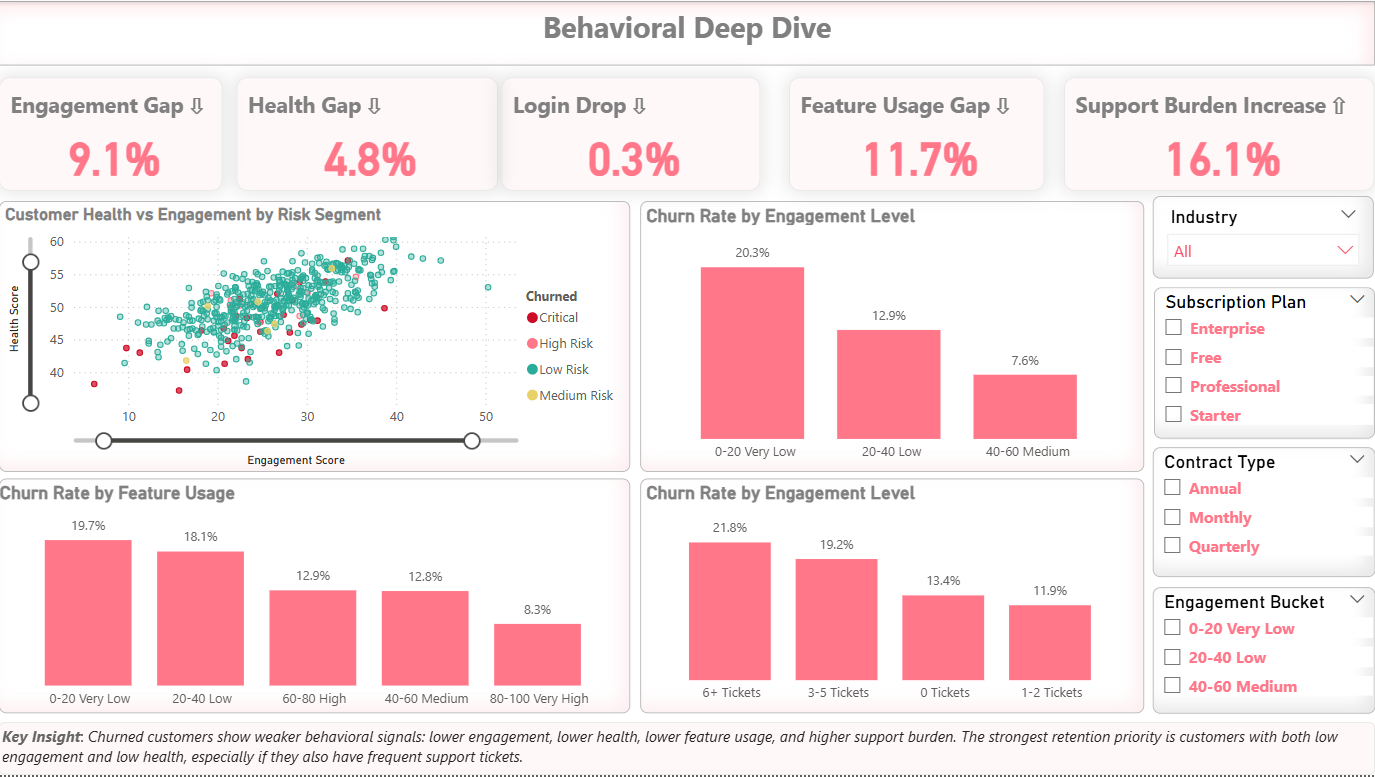

The dashboard page shown, as its layout file describes it:
{"tool":"powerbi","page":{"name":"Behavioral Insights","canvas":[1280,720],"ordinal":2},"visuals":[{"type":"textbox","box":[0,0,1280.2,59.7],"z":0},{"type":"clusteredColumnChart","title":"Churn Rate by Engagement Level","fields":{"Category":["saas_churn_full_for_powerbi.Engagement Bucket"],"Y":["saas_churn_full_for_powerbi.Churn Rate"]},"box":[596.5,186,468.6,252.3],"z":1000},{"type":"card","title":"Engagement Gap ⇩ ","fields":{"Values":["saas_churn_full_for_powerbi.Engagement Gap %"]},"box":[0,71.1,208.4,106],"z":2000},{"type":"card","title":"Health Gap ⇩","fields":{"Values":["saas_churn_full_for_powerbi.Health Gap %"]},"box":[220.4,71.1,243.3,106],"z":3000},{"type":"card","title":"Login Drop ⇩ ","fields":{"Values":["saas_churn_full_for_powerbi.Login Drop %"]},"box":[467.3,71.1,240.9,106],"z":4000},{"type":"card","title":"Feature Usage Gap ⇩","fields":{"Values":["saas_churn_full_for_powerbi.Feature Usage Gap %"]},"box":[734.7,71.1,237.3,106],"z":5000},{"type":"scatterChart","title":"Customer Health vs Engagement by Risk Segment","fields":{"X":["saas_churn_full_for_powerbi.Avg Engagement Score"],"Series":["saas_churn_full_for_powerbi.predicted_risk_level"],"Y":["saas_churn_full_for_powerbi.Avg Health Score"],"Category":["saas_churn_full_for_powerbi.customer_id"]},"box":[0,186,587.2,252.3],"z":6000},{"type":"textbox","box":[0,670.9,1280.2,48.8],"z":7000},{"type":"card","title":"Support Burden Increase ⇧","fields":{"Values":["saas_churn_full_for_powerbi.Support Burden Increase %"]},"box":[991.2,71.1,289,106],"z":8000},{"type":"clusteredColumnChart","title":"Churn Rate by Feature Usage","fields":{"Category":["saas_churn_full_for_powerbi.Feature Usage Bucket"],"Y":["saas_churn_full_for_powerbi.Churn Rate"]},"box":[0,444.2,587.2,218.6],"z":9000},{"type":"clusteredColumnChart","title":"Churn Rate by Engagement Level","fields":{"Category":["saas_churn_full_for_powerbi.Support Ticket Bucket"],"Y":["saas_churn_full_for_powerbi.Churn Rate"]},"box":[596.5,444.2,468.6,218.6],"z":10000},{"type":"slicer","fields":{"Values":["saas_churn_full_for_powerbi.subscription_plan"]},"box":[1074.4,266.3,205.8,140.7],"z":11000},{"type":"slicer","fields":{"Values":["saas_churn_full_for_powerbi.industry"]},"box":[1073.3,181.4,205.8,76.7],"z":12000},{"type":"slicer","fields":{"Values":["saas_churn_full_for_powerbi.contract_type"]},"box":[1073.3,415.1,207,120.9],"z":13000},{"type":"slicer","fields":{"Values":["saas_churn_full_for_powerbi.Engagement Bucket"]},"box":[1073.3,545.4,207,117.4],"z":14000}]}

Visuals, with their boxes in screenshot pixels (x1, y1, x2, y2), scaled from the page's 1280x720 canvas onto the 1375x777 screenshot:
textbox: (0,0,1374,64)
"Churn Rate by Engagement Level" clusteredColumnChart: (641,201,1144,473)
"Engagement Gap ⇩ " card: (0,77,224,191)
"Health Gap ⇩" card: (237,77,498,191)
"Login Drop ⇩ " card: (502,77,761,191)
"Feature Usage Gap ⇩" card: (789,77,1044,191)
"Customer Health vs Engagement by Risk Segment" scatterChart: (0,201,631,473)
textbox: (0,724,1374,776)
"Support Burden Increase ⇧" card: (1065,77,1374,191)
"Churn Rate by Feature Usage" clusteredColumnChart: (0,479,631,715)
"Churn Rate by Engagement Level" clusteredColumnChart: (641,479,1144,715)
slicer - saas_churn_full_for_powerbi.subscription_plan: (1154,287,1374,439)
slicer - saas_churn_full_for_powerbi.industry: (1153,196,1374,279)
slicer - saas_churn_full_for_powerbi.contract_type: (1153,448,1374,578)
slicer - saas_churn_full_for_powerbi.Engagement Bucket: (1153,589,1374,715)
